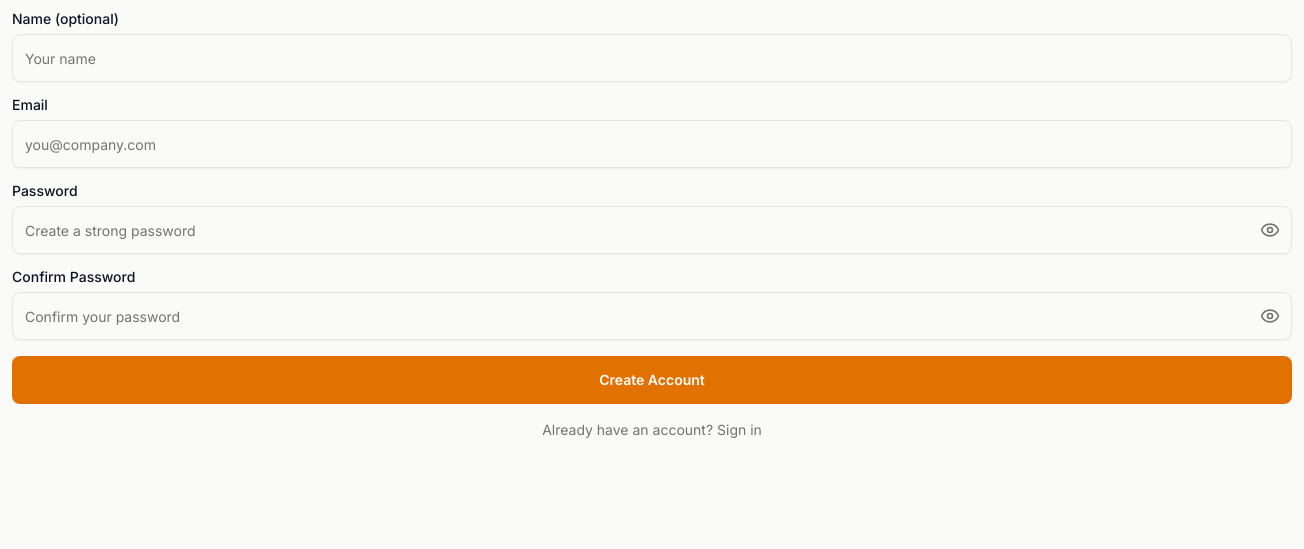
Test: RegisterForm › Form submission › should handle network errors gracefully
Type "test@example.com" into the field labelled "Email" at (652, 144), box [12,120,1292,168]
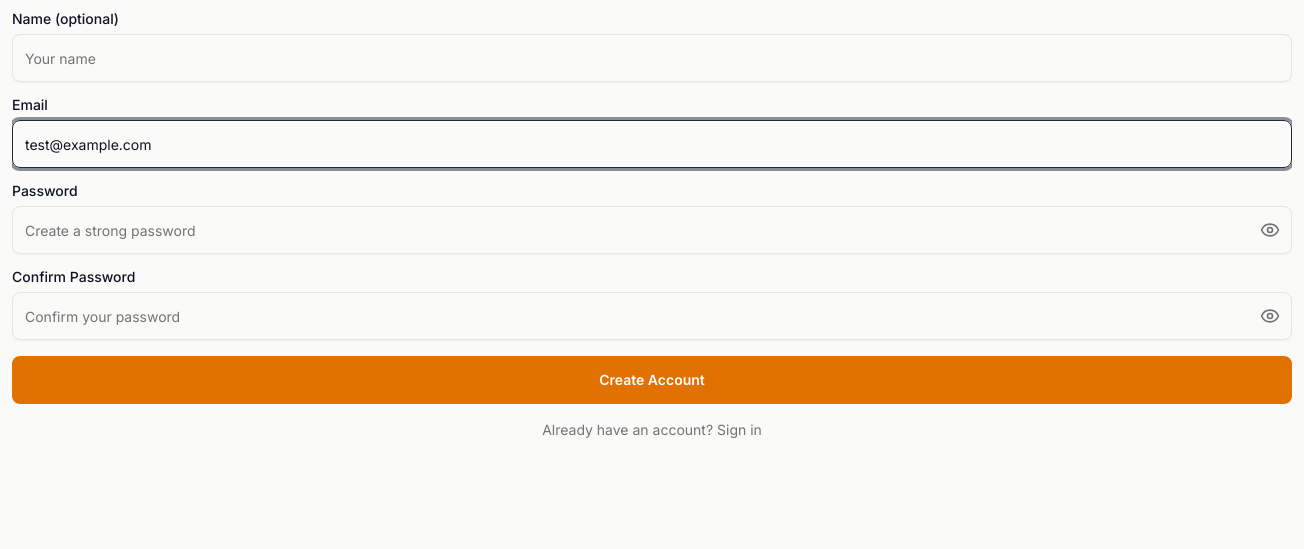
Type "Password123" into the password field labelled "Password" at (652, 230), box [12,206,1292,254]
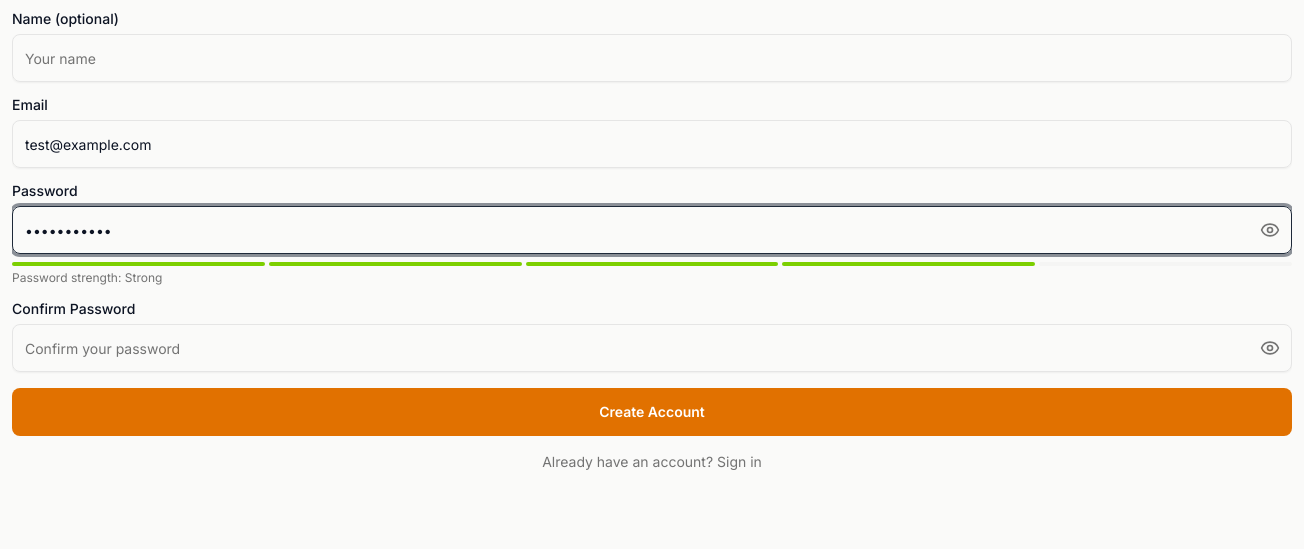
Type "Password123" into the password field labelled "Confirm Password" at (652, 348), box [12,324,1292,372]
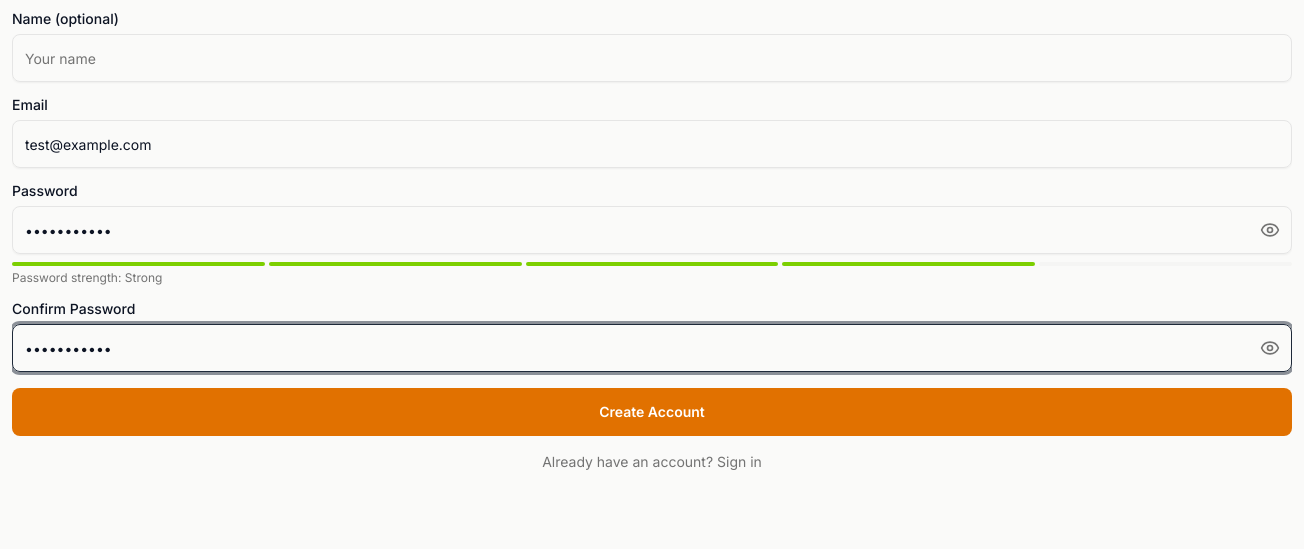
Click the button "Create Account" at (652, 412), box [12,388,1292,436]
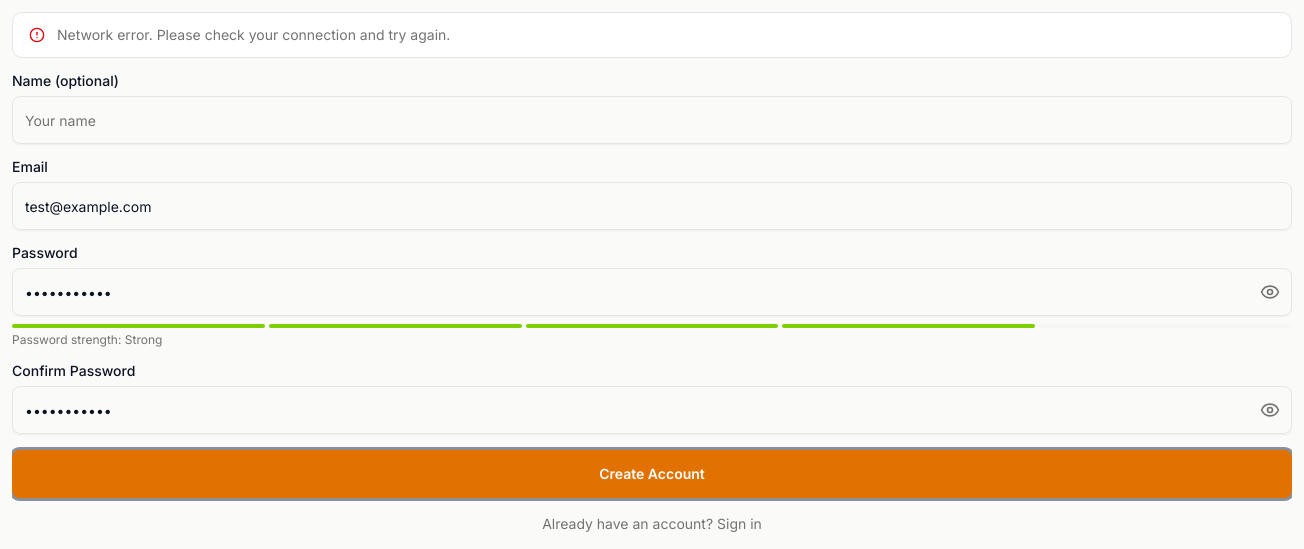
Now the text "Network error. Please check your connection and try again." is shown, box [57,26,450,43]
